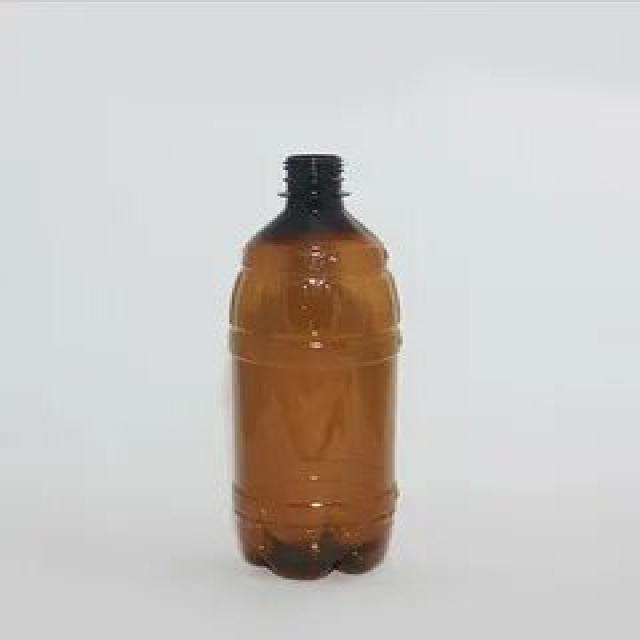brown: (229, 152, 400, 580)
